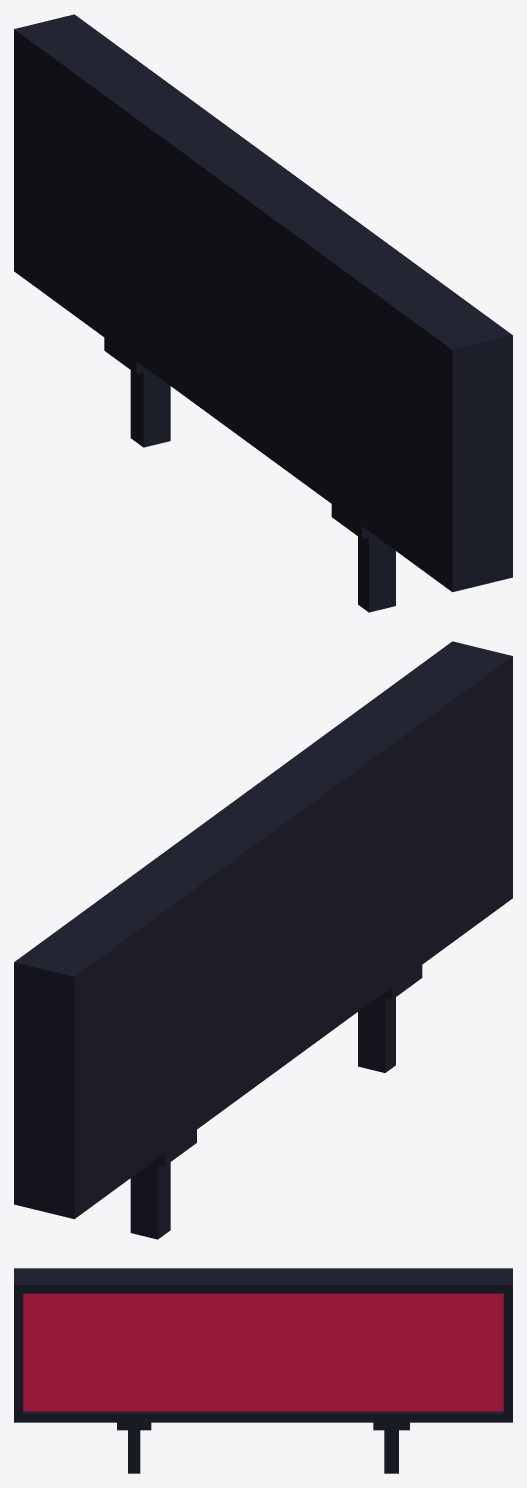
Rendered from Sign_Long_Light_02.fbx.
3 renders of one model, top to bottom at view 1: azimuth 30°, elevation 25°; view 2: azimuth 150°, elevation 25°; view 3: azimuth 270°, elevation 25°, orthographic. The views are drawn at different scales.
Parts seen in each view (by area): view 1: Cube.182; view 2: Cube.182; view 3: Cube.182.
Boxes of the visible parts, x1=… form: Cube.182: x1=14, y1=14, x2=512, y2=612; Cube.182: x1=14, y1=641, x2=512, y2=1239; Cube.182: x1=14, y1=1268, x2=512, y2=1473.
Size of the model in its own units: 32.99 by 177 by 414.
